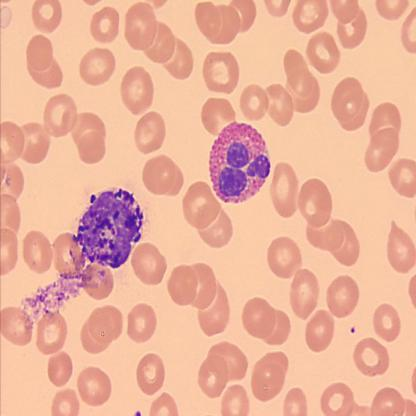Basophil: (70, 185, 146, 274)
